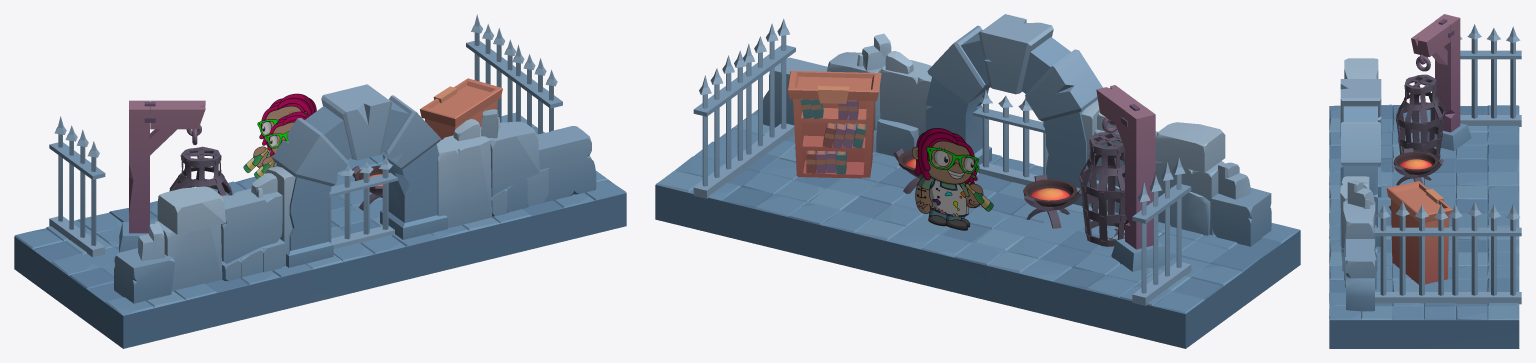
File: dungeon.glb
The picture shows the model from 3 angles, left to right: view 1: azimuth 30°, elevation 25°; view 2: azimuth 150°, elevation 25°; view 3: azimuth 270°, elevation 25°; orthographic projection. The views are drawn at different scales.
Visible parts, largest first — view 1: diorama, flovatar; view 2: diorama, flovatar; view 3: diorama.
Part boxes in pixels (bbox=[...]): diorama: bbox=[14, 14, 626, 348]; flovatar: bbox=[243, 93, 316, 172]; diorama: bbox=[655, 14, 1300, 348]; flovatar: bbox=[912, 128, 993, 230]; diorama: bbox=[1329, 14, 1521, 348].
Size of the model in its own units: 16.03 by 5.35 by 6.08.
Materials: 3 (3 with a texture image).
